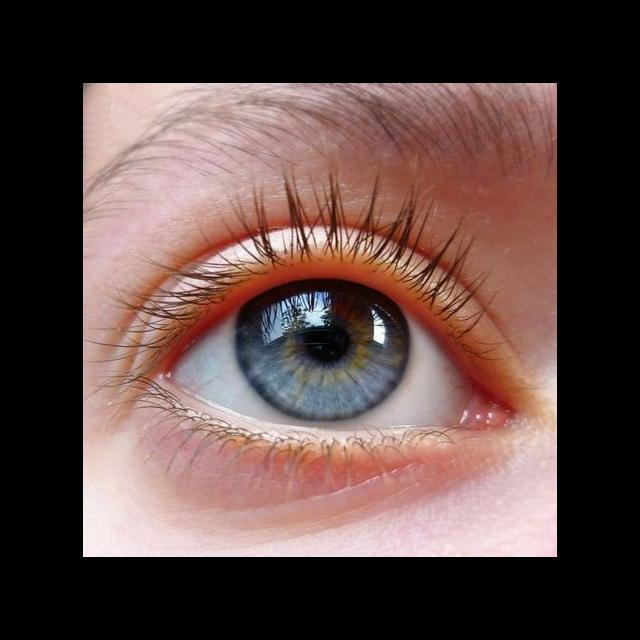eye: (172, 277, 475, 433)
iris: (238, 281, 413, 424)
